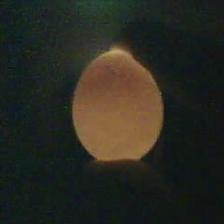infertile: (71, 47, 166, 170)
